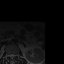CCS_normal: (11, 52, 12, 61)
LFS_stenosis: (15, 53, 16, 58)
LLS_normal: (12, 53, 14, 59)
RFS_normal: (7, 52, 9, 58)
RLS_normal: (9, 52, 11, 59)
